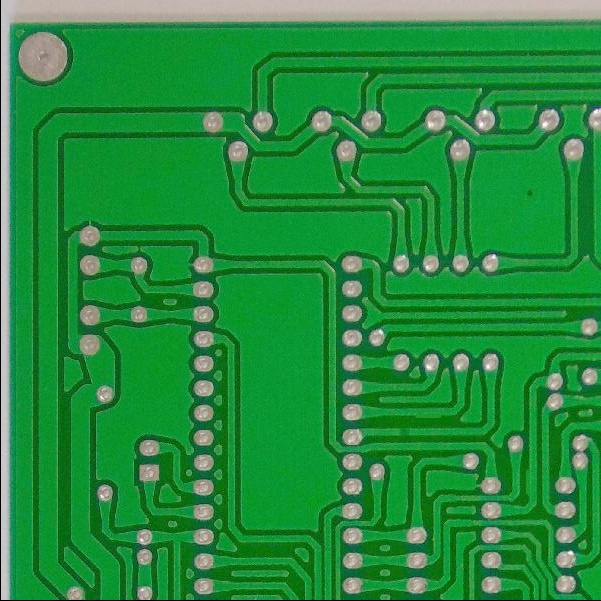spur: (406, 408, 444, 425)
